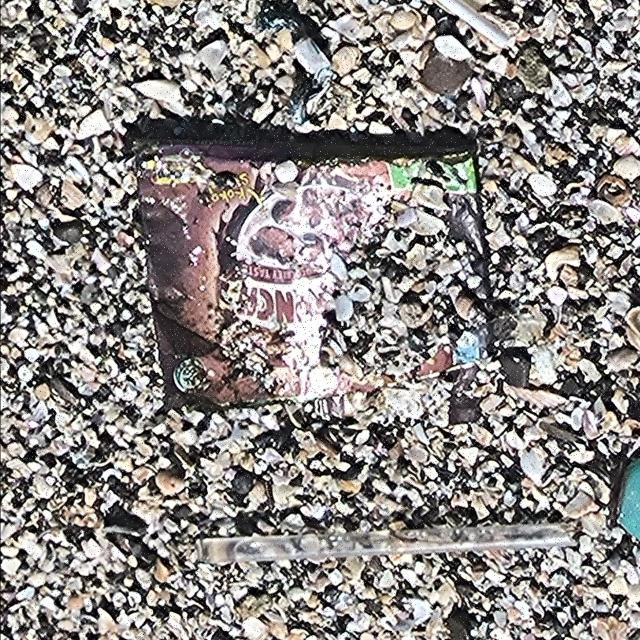plastic_waste: (129, 136, 494, 414), (194, 520, 576, 568)
